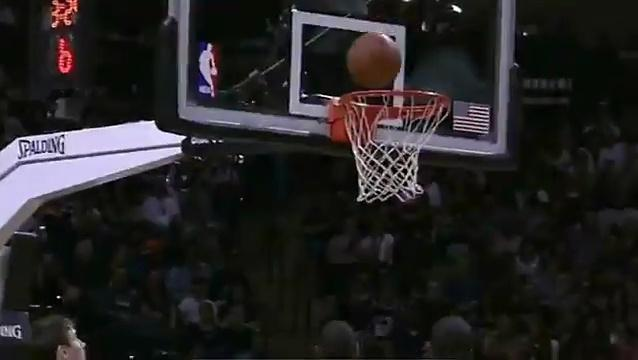Backboard: (144, 0, 527, 171)
Ball: (346, 31, 402, 88)
Basket: (332, 88, 452, 201)
